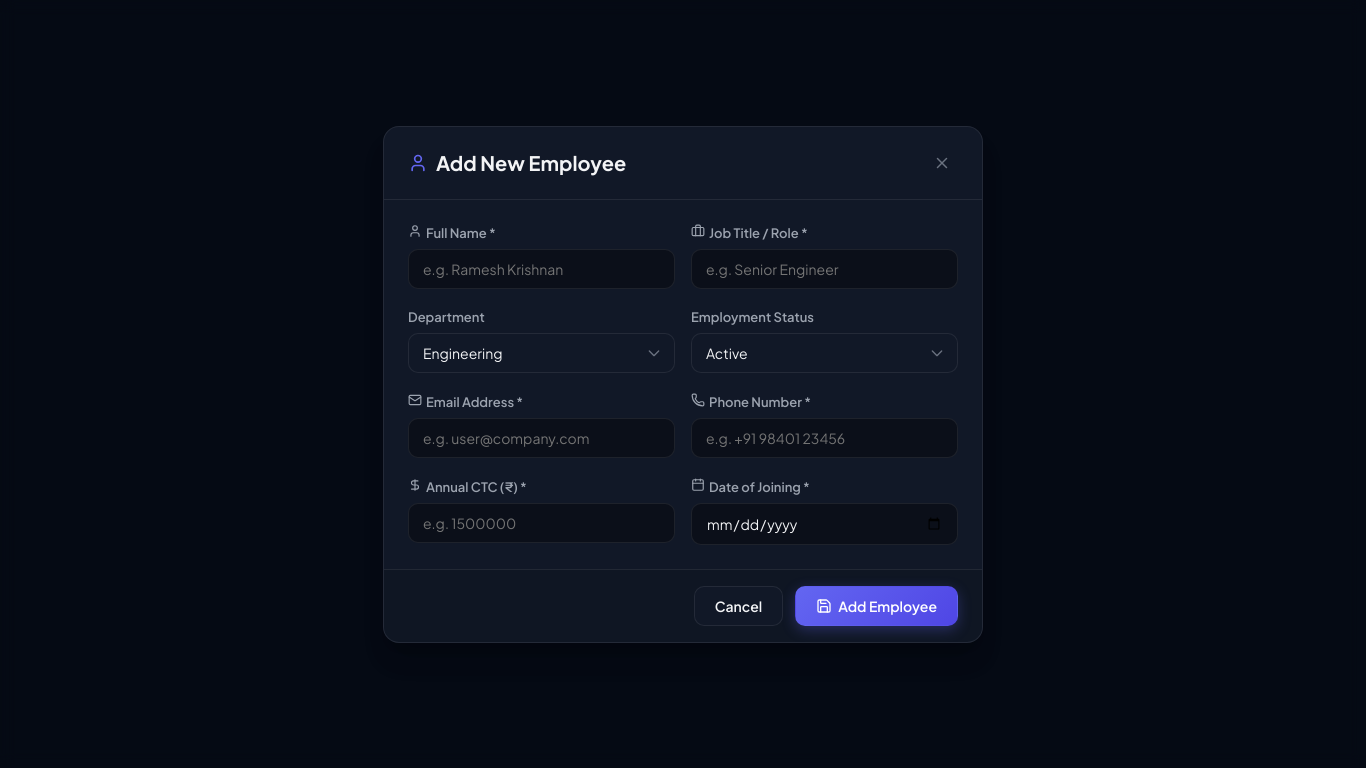
Test case: EmployeeFormModal › shows validation error for invalid email
Type "Test User" into the field with test id "input-name" at (542, 268), box [408,248,675,288]
Type "Engineer" into the field with test id "input-role" at (824, 268), box [691,248,958,288]
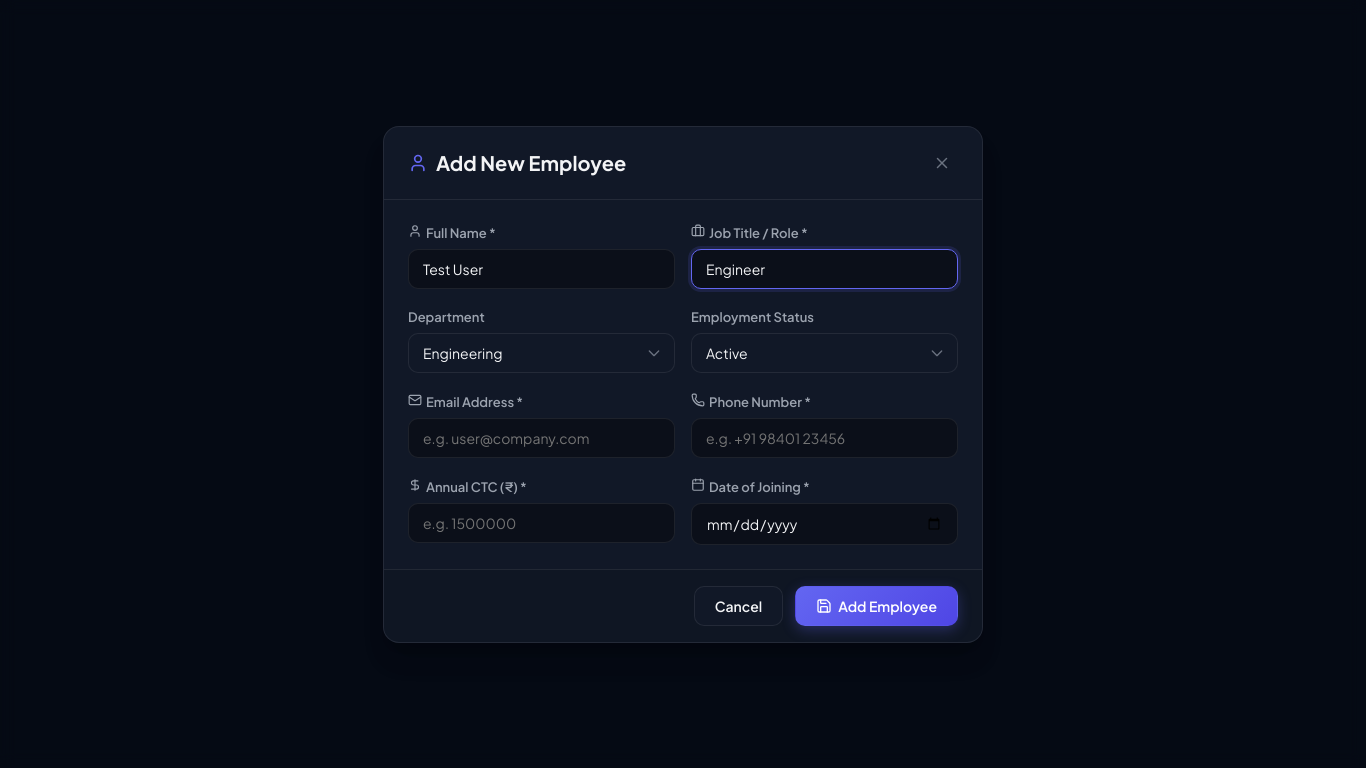
Type "not-an-email" into the field with test id "input-email" at (542, 438), box [408,418,675,458]
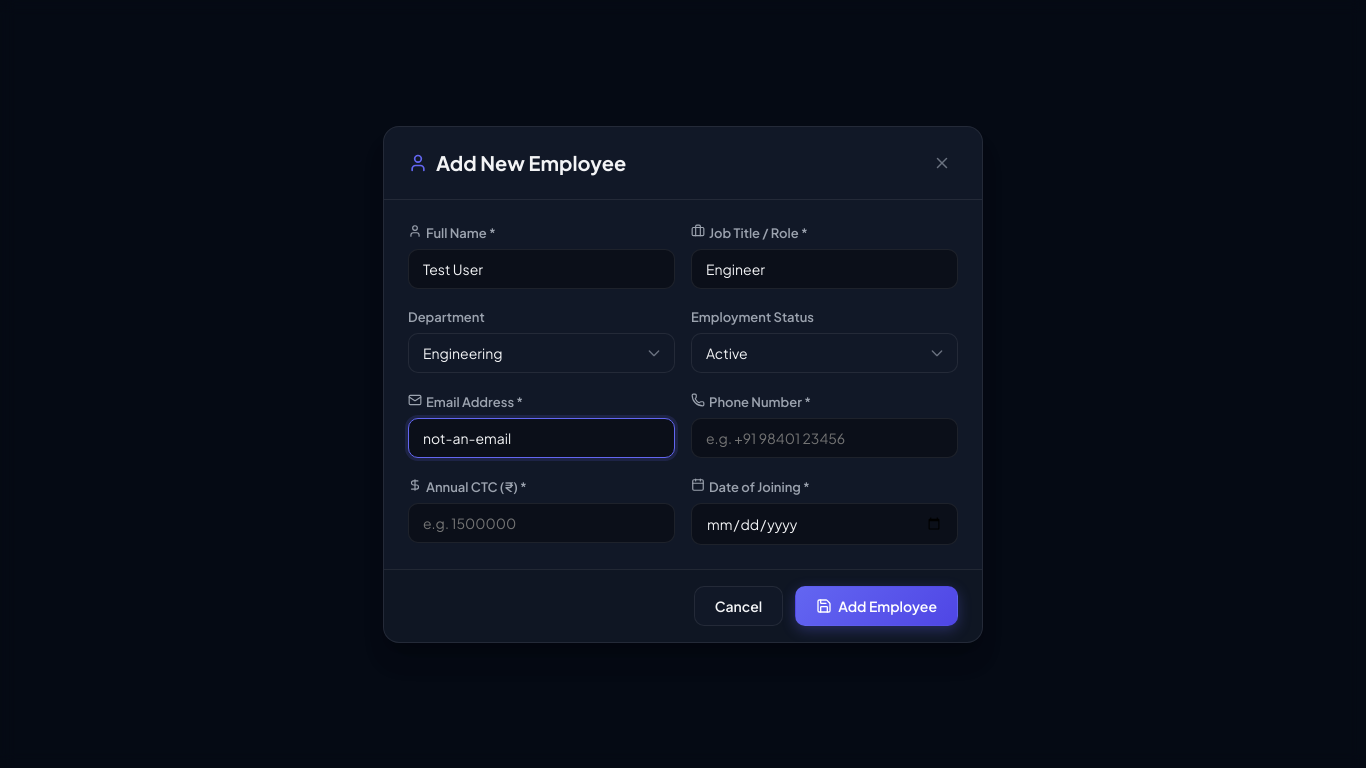
Type "+91 9999999999" into the field with test id "input-phone" at (824, 438), box [691,418,958,458]
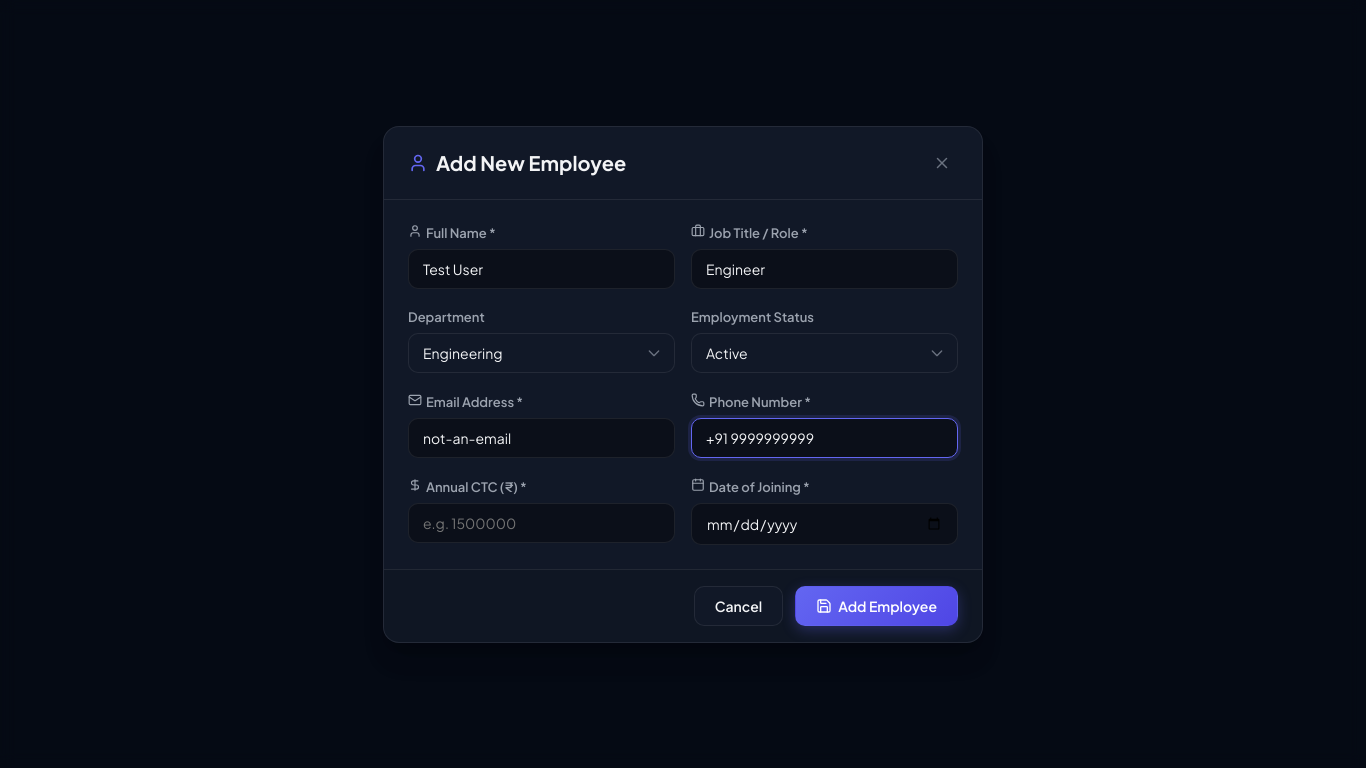
Type "1200000" into the number field with test id "input-salary" at (542, 522), box [408,502,675,542]
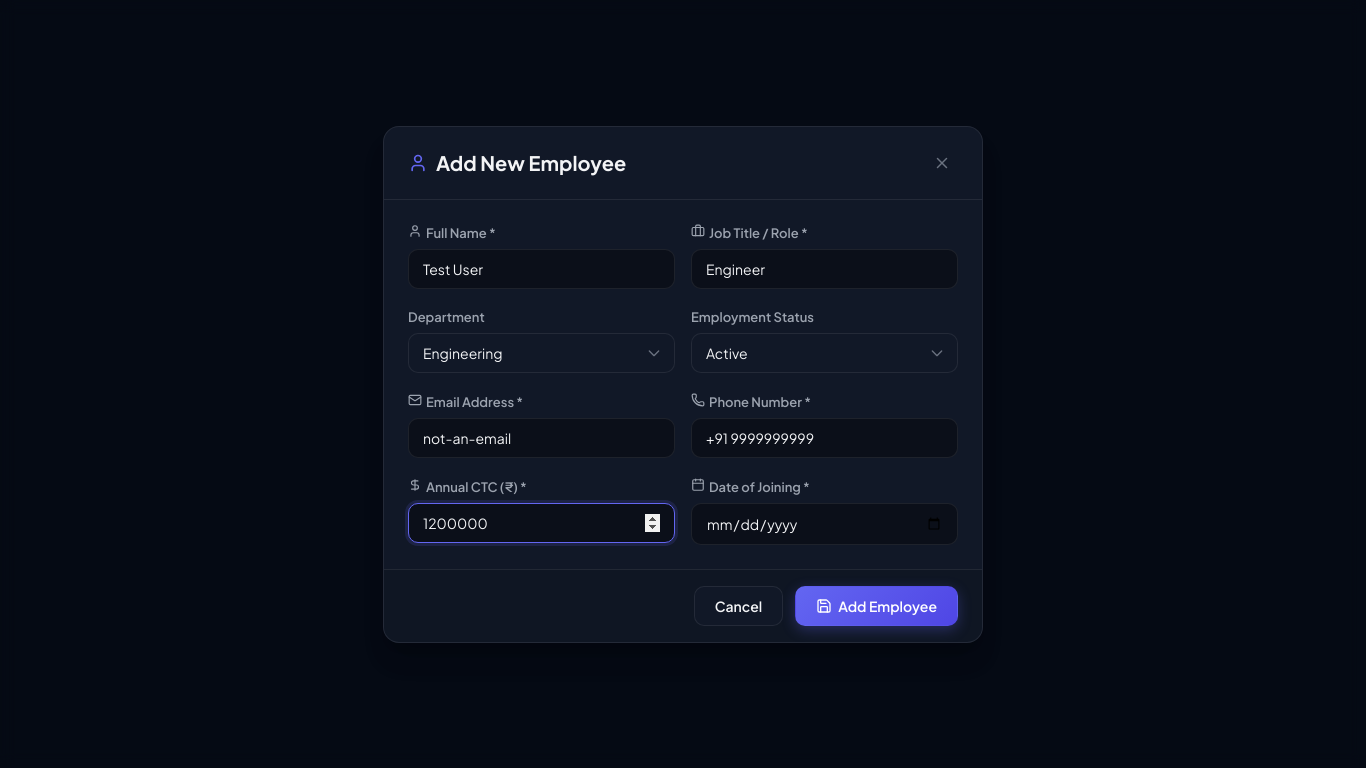
Type "2024-01-01" into the date field with test id "input-doj" at (824, 524), box [691,502,958,544]
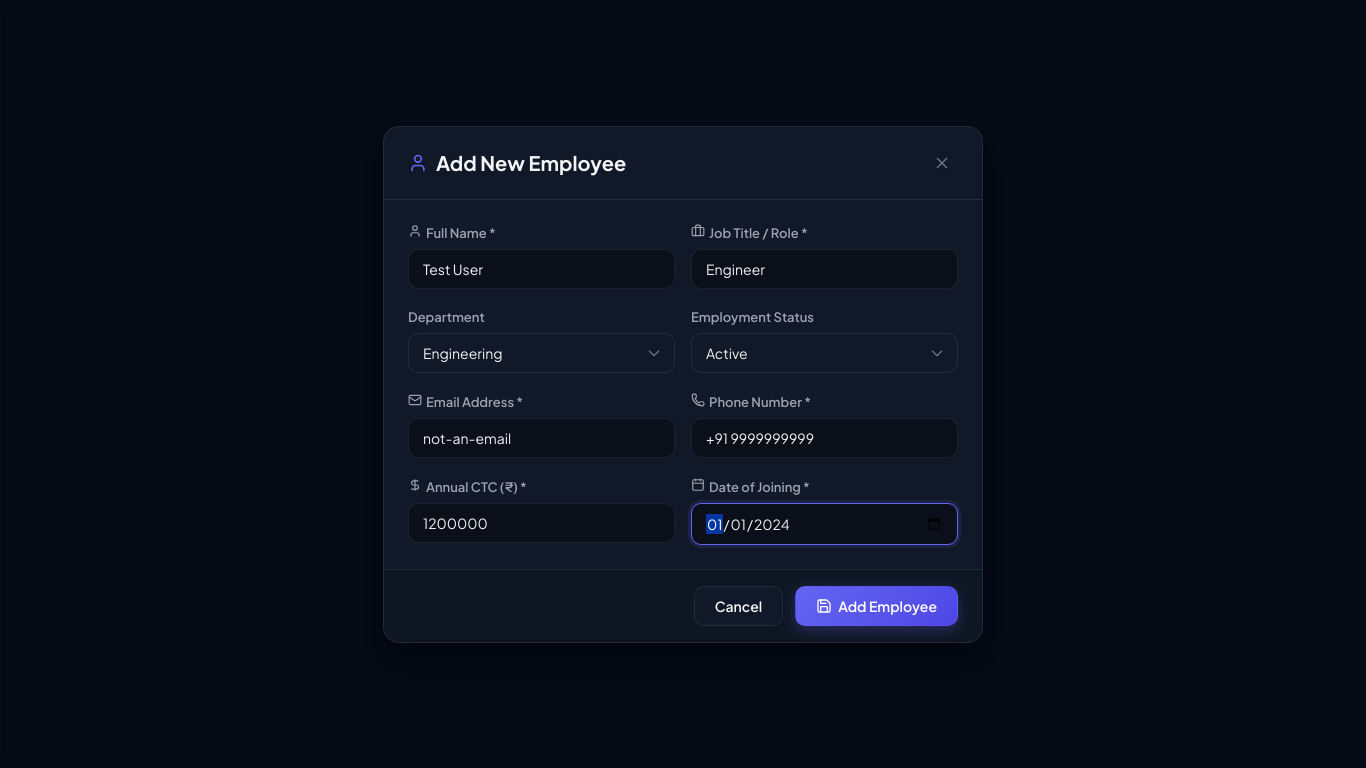
Click the button with test id "btn-save" at (877, 606), box [795,586,958,626]
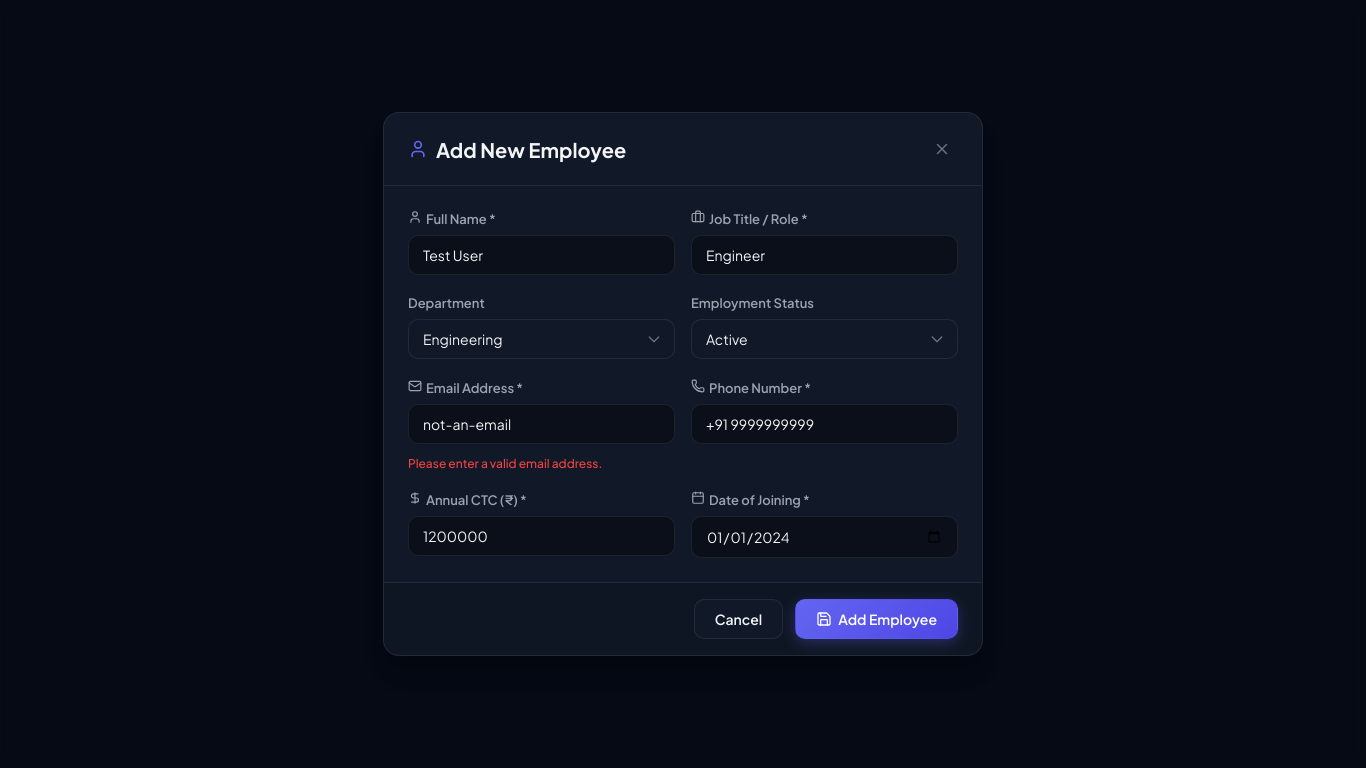
Expected: the text "Please enter a valid email address." is shown, [408,456,602,471]
